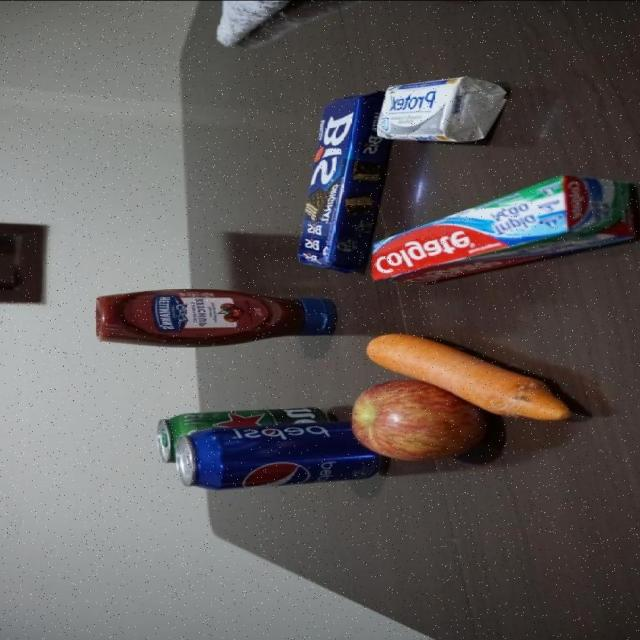Apple: (346, 390, 492, 464)
BeerCan: (157, 405, 330, 428)
Carrot: (360, 331, 553, 387)
Ketchup: (88, 285, 342, 345)
Soap: (376, 75, 509, 144)
SodaCan: (172, 430, 334, 490)
Toothpaste: (374, 175, 627, 287)
